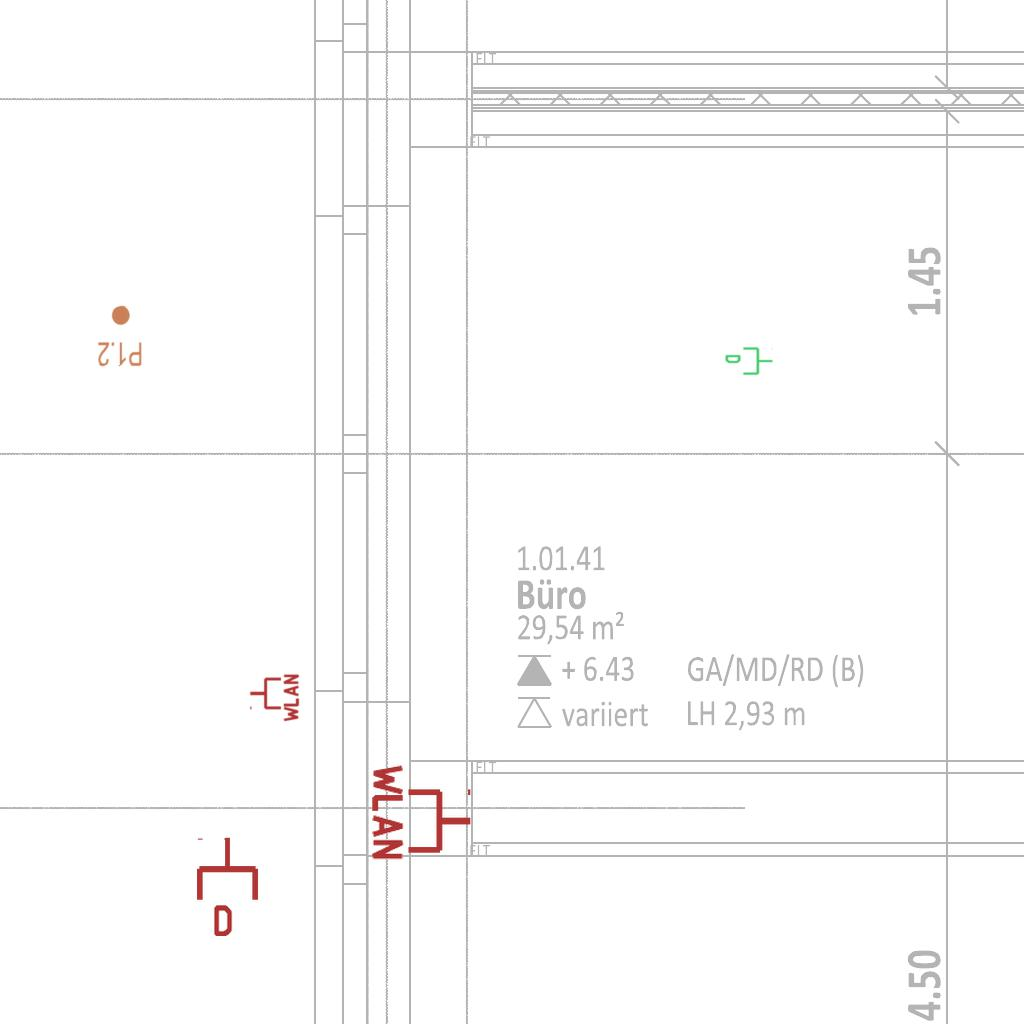Datenanschluss_einfach: (193, 836, 262, 936), (724, 345, 774, 379)
Downlight_LED_Einbauleuchten_Flur: (96, 303, 144, 369)
WLAN: (370, 760, 475, 864), (248, 672, 300, 724)
